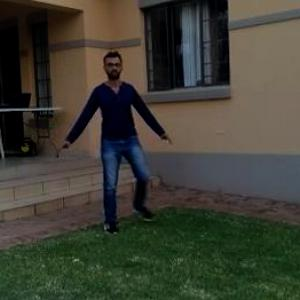land: (64, 62, 164, 220)
